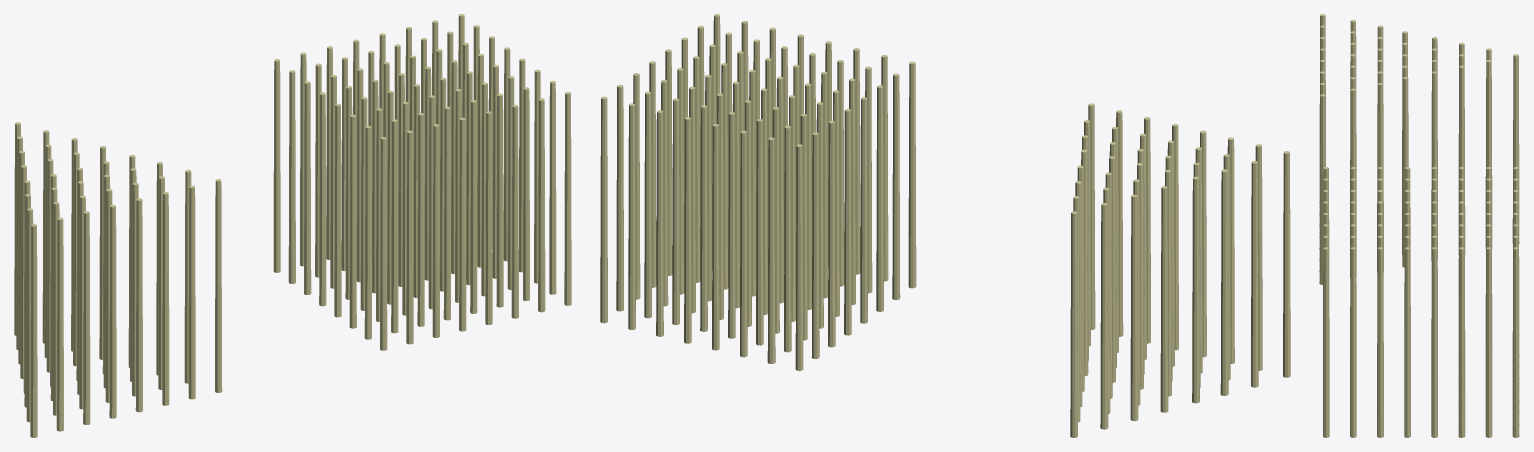
File: Weath.fbx
3 renders of one model, left to right at view 1: azimuth 30°, elevation 25°; view 2: azimuth 150°, elevation 25°; view 3: azimuth 270°, elevation 25°, orthographic. The views are drawn at different scales.
Visible parts, largest first — view 1: Square_Weath, Triangle_Weath; view 2: Square_Weath, Triangle_Weath; view 3: Square_Weath, Triangle_Weath.
Part boxes in pixels (left/top/right/bottom): Square_Weath: left=273, top=14, right=571, bottom=350; Triangle_Weath: left=14, top=122, right=222, bottom=437; Square_Weath: left=600, top=14, right=916, bottom=370; Triangle_Weath: left=1070, top=103, right=1290, bottom=437; Square_Weath: left=1323, top=167, right=1519, bottom=437; Triangle_Weath: left=1319, top=14, right=1519, bottom=284.
Bounding box in the file's own units: 124 × 45.95 × 44.24.
